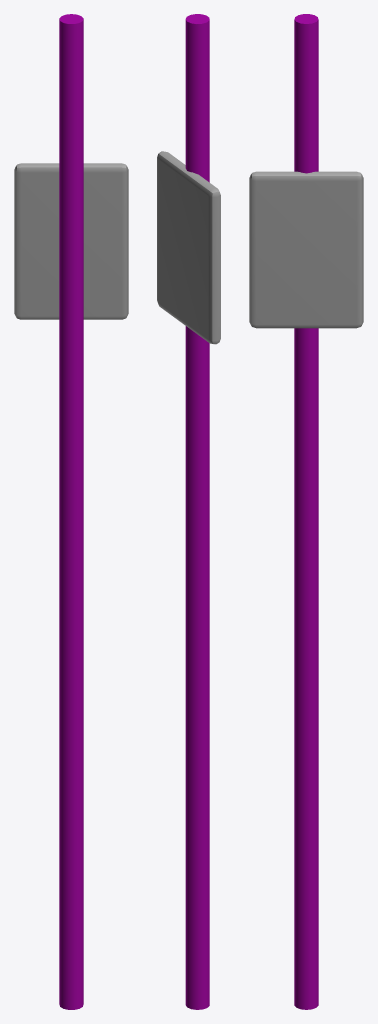
Rendered from Cartel2.fbx.
3 renders of one model, left to right at view 1: azimuth 90°, elevation 25°; view 2: azimuth 210°, elevation 25°; view 3: azimuth 270°, elevation 25°, orthographic.
Parts seen in each view (by area): view 1: pCylinder1, pCube1; view 2: pCylinder1, pCube1; view 3: pCylinder1, pCube1.
Part boxes in pixels (box(x1,y1,x2,y2)): pCylinder1: box(59, 14, 83, 1009); pCube1: box(14, 163, 128, 319); pCylinder1: box(185, 14, 209, 1009); pCube1: box(157, 151, 220, 344); pCylinder1: box(294, 14, 318, 1009); pCube1: box(249, 171, 363, 328).
Size of the model in its own units: 0.2521 by 9.5 by 1.
